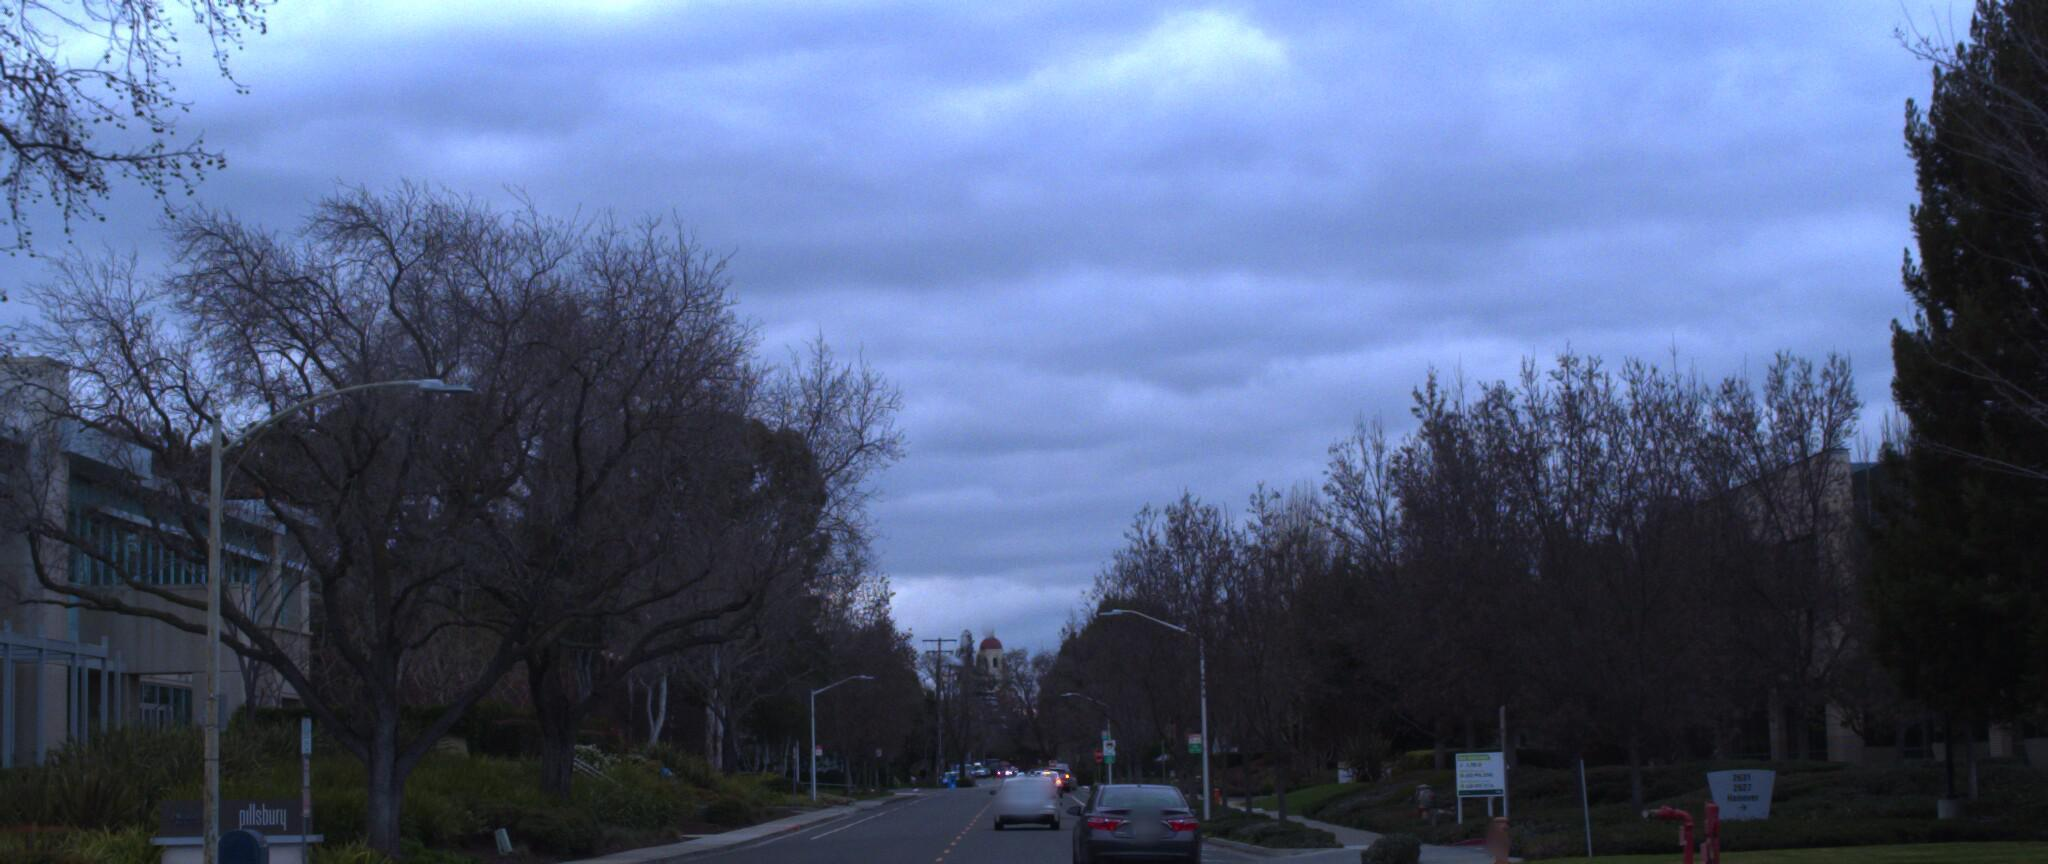car: (1062, 780, 1196, 864), (984, 769, 1058, 820)
